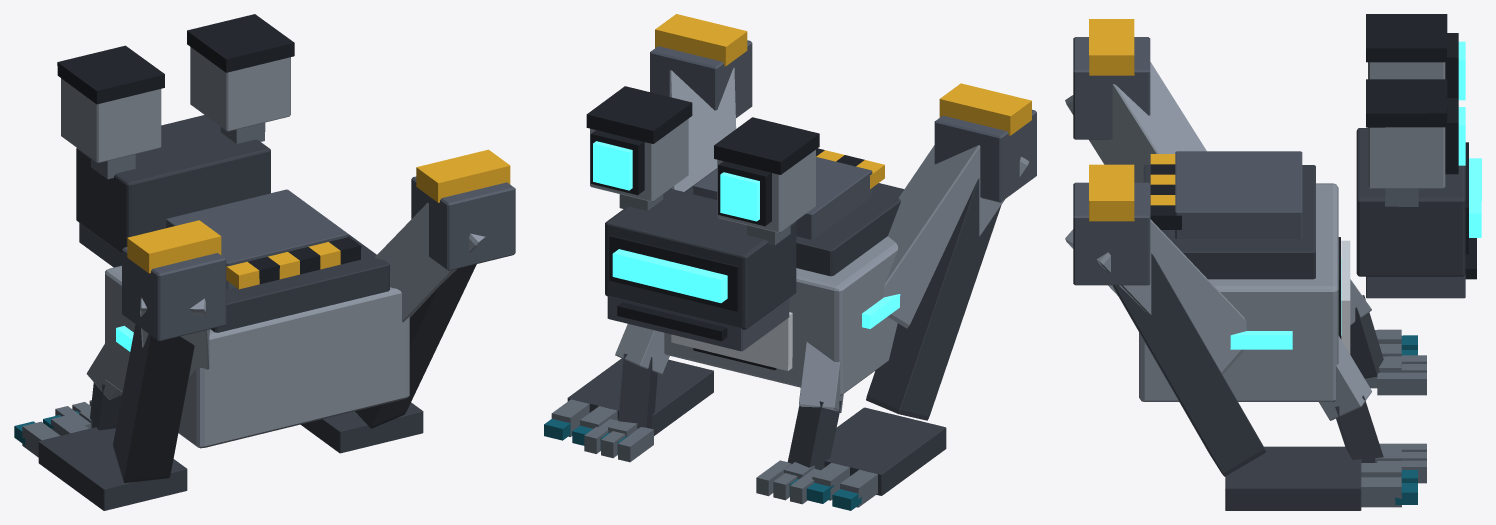
File: mecha-froggo.glb
3 views of the same model, side by side, from view 1: azimuth 30°, elevation 25°; view 2: azimuth 150°, elevation 25°; view 3: azimuth 270°, elevation 25° (orthographic). The views are drawn at different scales.
Visible parts, largest first — view 1: body, head, leg.BR, leg.BL, arm.R; view 2: head, leg.BR, body, leg.BL, arm.R, arm.L; view 3: body, leg.BL, head, leg.BR, arm.L, arm.R.
Boxes of the visible parts, x1,y1,x2,y2 form: body: (105, 189, 409, 448); head: (57, 14, 294, 267); leg.BR: (14, 220, 226, 510); leg.BL: (300, 149, 515, 453); arm.R: (55, 344, 122, 430); head: (586, 86, 819, 351); leg.BR: (784, 83, 1036, 510); body: (664, 148, 904, 395); leg.BL: (544, 14, 752, 453); arm.R: (756, 342, 843, 504); arm.L: (584, 324, 669, 462); body: (1139, 151, 1350, 401); leg.BL: (1065, 164, 1417, 510); head: (1356, 14, 1481, 298); leg.BR: (1065, 19, 1417, 388); arm.L: (1319, 336, 1426, 483); arm.R: (1341, 279, 1426, 395).
Bounding box in the file's own units: 1.08 × 1 × 1.03.
